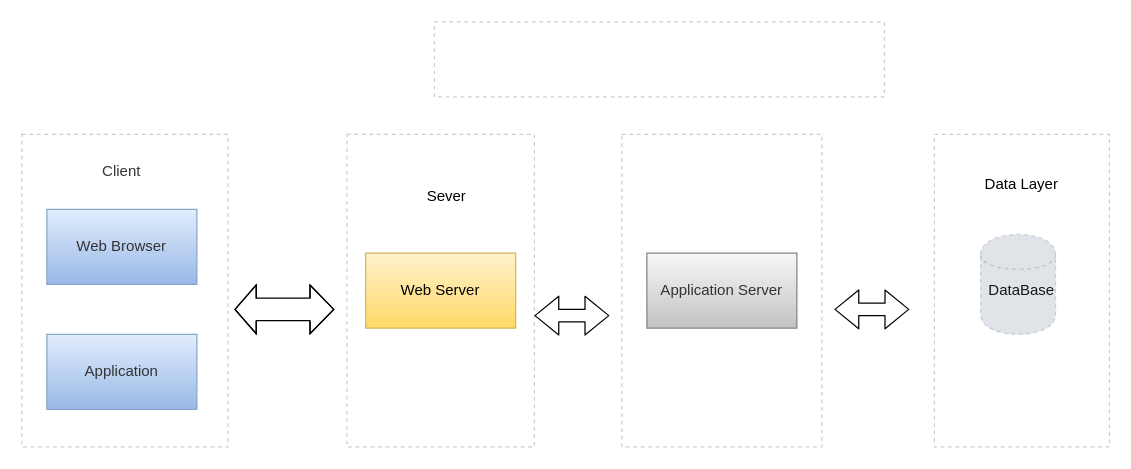
Some shapes in this 1131 by 469 pixel diagram are drawn without their labels. Here are the shapes that lost their labels. From the top down, the centre of each, then its label:
At [658,59]: "WEB APPLICATION ARCHITECTURE".
At [721,290]: "Business Layer".
